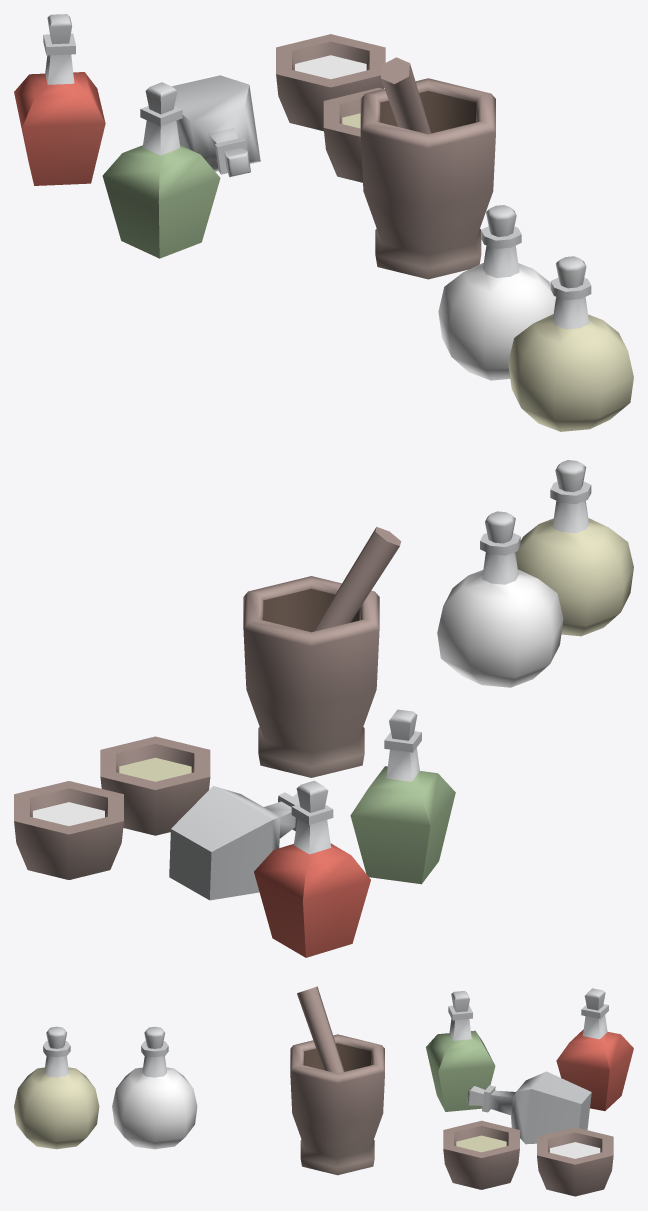
File: Alchemic_desk_things.fbx
3 views of the same model, one above another, from view 1: azimuth 30°, elevation 25°; view 2: azimuth 150°, elevation 25°; view 3: azimuth 270°, elevation 25° (orthographic). The views are drawn at different scales.
Visible parts, largest first — view 1: alchemic_desk_things; view 2: alchemic_desk_things; view 3: alchemic_desk_things.
Part boxes in pixels (<box>): alchemic_desk_things: <box>14,14,633,431</box>; alchemic_desk_things: <box>14,460,633,957</box>; alchemic_desk_things: <box>14,986,633,1196</box>.
Bounding box in the file's own units: 1.21 × 0.7331 × 2.58.
